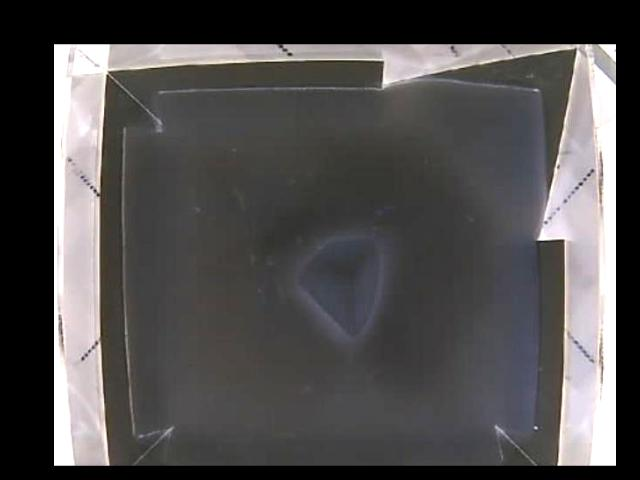Mooli: (302, 232, 381, 332)
